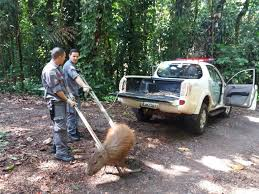capivara: (86, 124, 135, 182)
